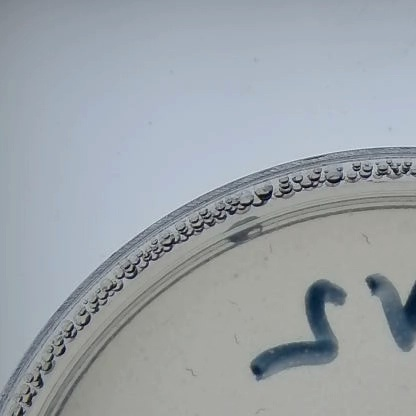worm: (257, 238, 276, 266), (357, 232, 372, 251), (228, 331, 240, 351), (254, 402, 270, 416), (184, 366, 198, 381), (224, 296, 237, 312)
